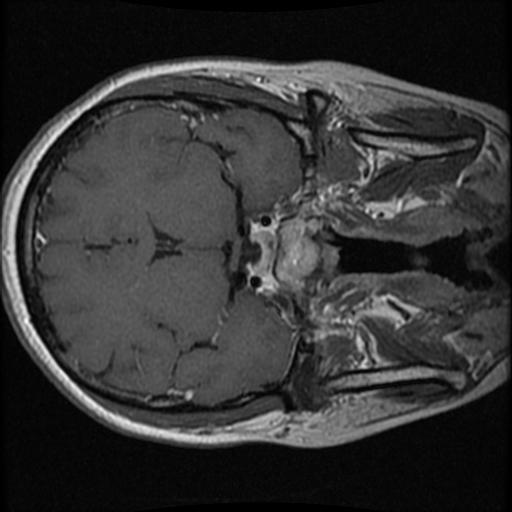pituitary tumour: (249, 225, 278, 278)
